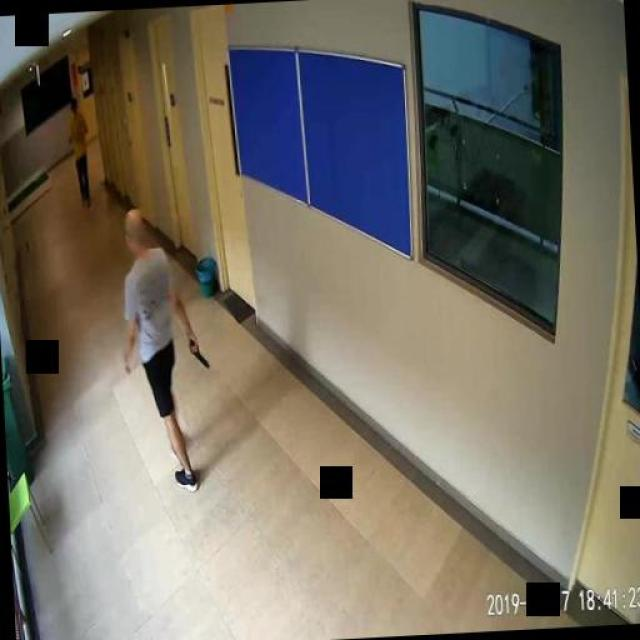gun: (186, 336, 208, 370)
